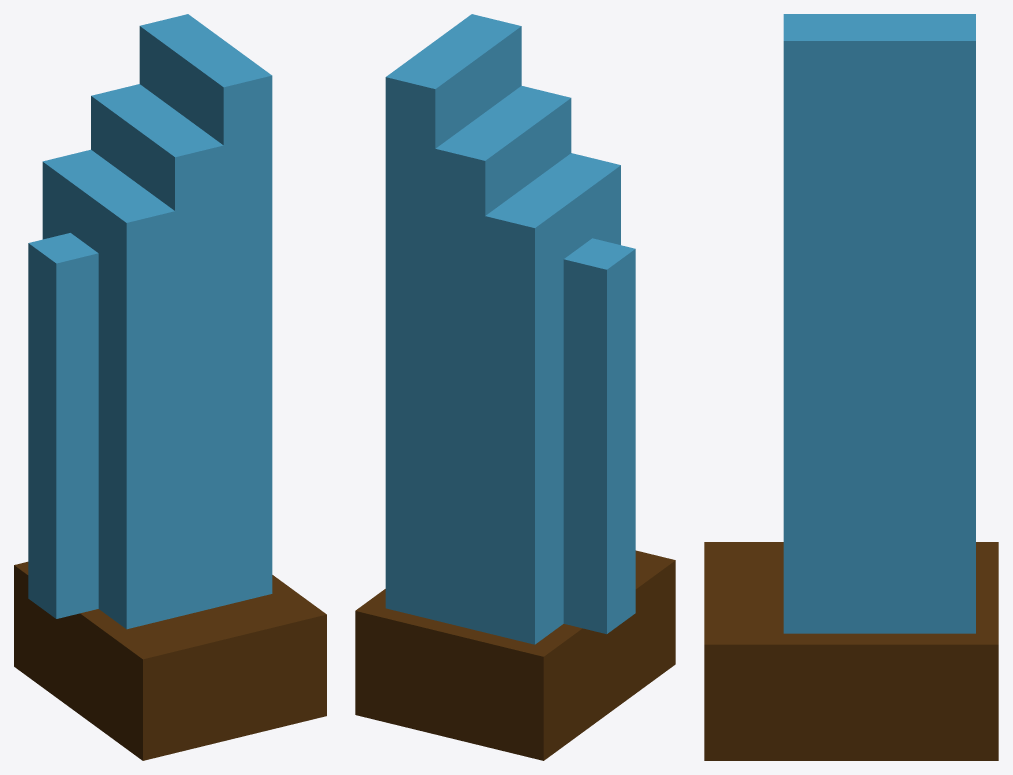
The model's file is right_leg.fbx.
The picture shows the model from 3 angles, left to right: view 1: azimuth 30°, elevation 25°; view 2: azimuth 150°, elevation 25°; view 3: azimuth 270°, elevation 25°; orthographic projection. The views are drawn at different scales.
Visible parts, largest first — view 1: right_leg; view 2: right_leg; view 3: right_leg.
Boxes of the visible parts, <box> form: right_leg: <box>14,14,326,760</box>; right_leg: <box>355,14,675,760</box>; right_leg: <box>704,14,998,760</box>.
Bounding box in the file's own units: 118 × 336 × 126.
